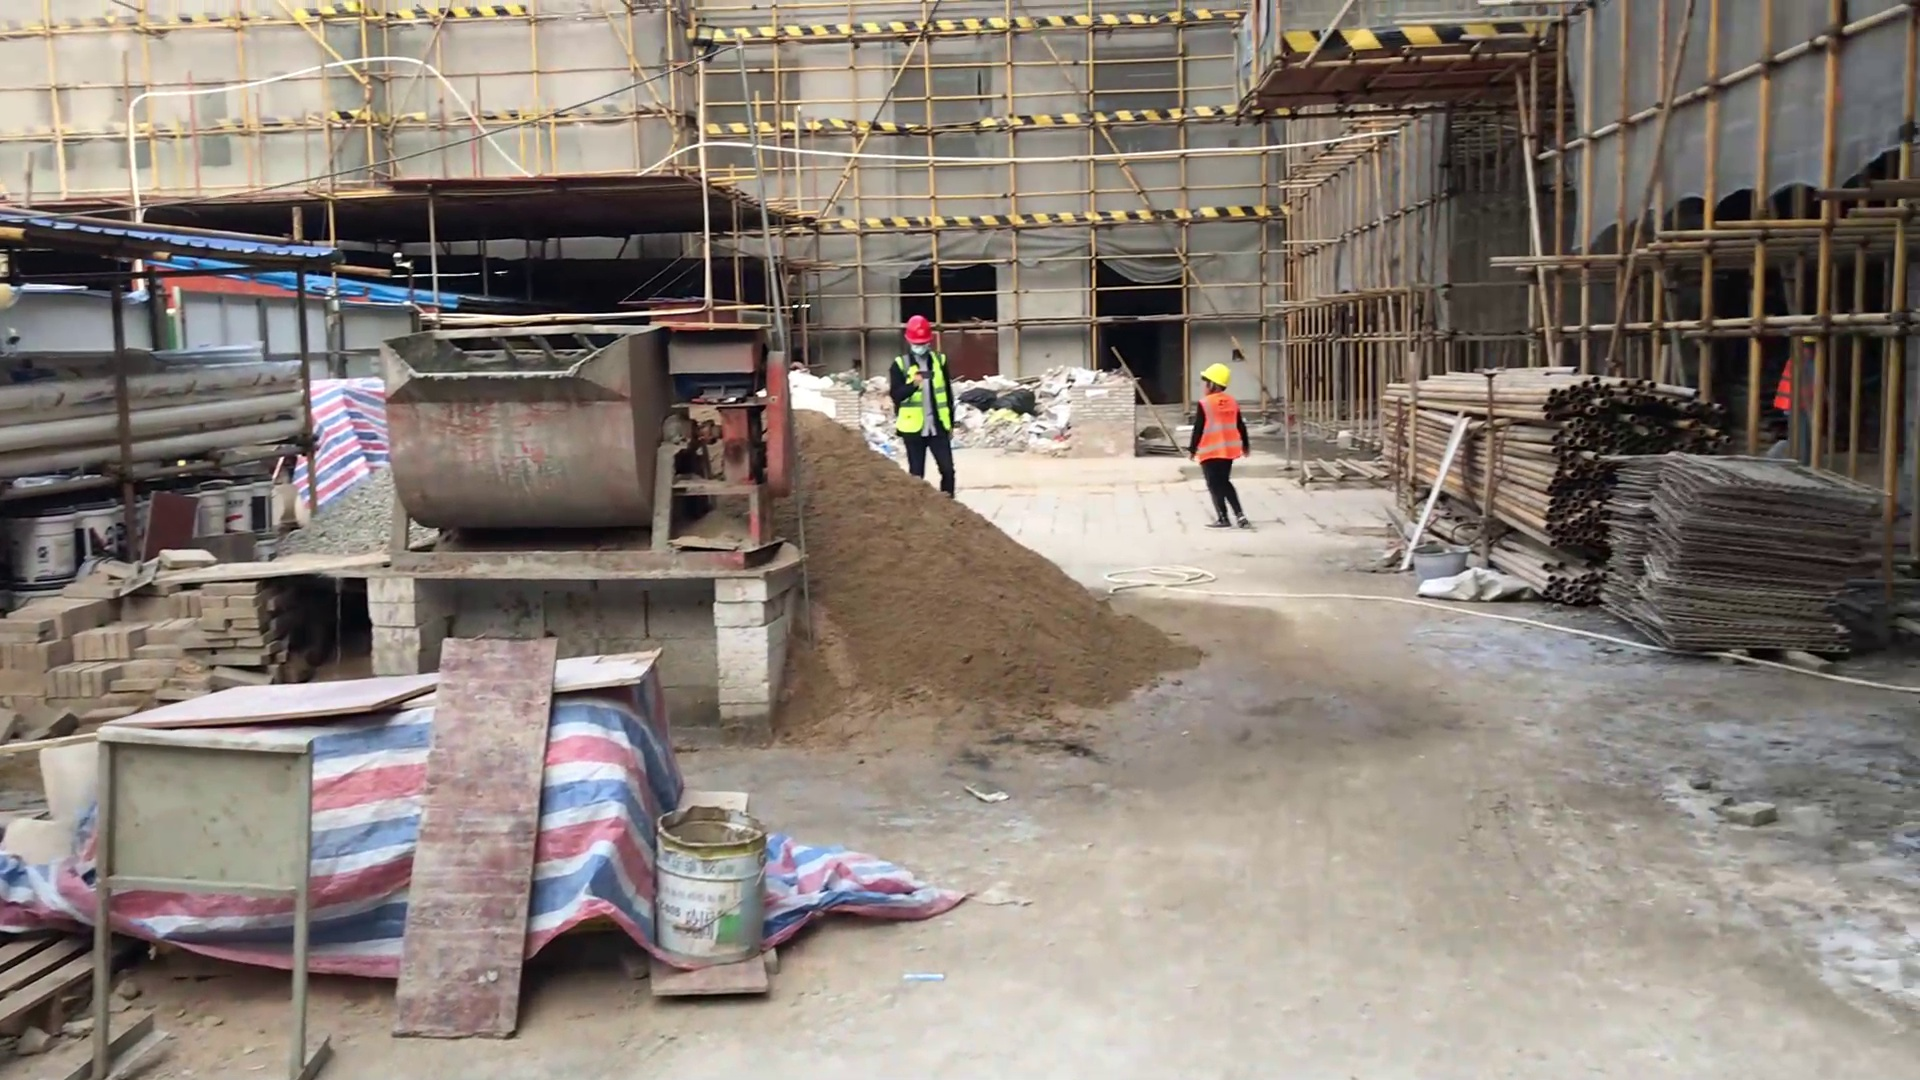helmet: (1192, 350, 1241, 395), (899, 306, 949, 349)
person: (878, 309, 973, 504), (1178, 354, 1267, 532)
vest: (892, 343, 958, 439), (1185, 386, 1248, 464)
